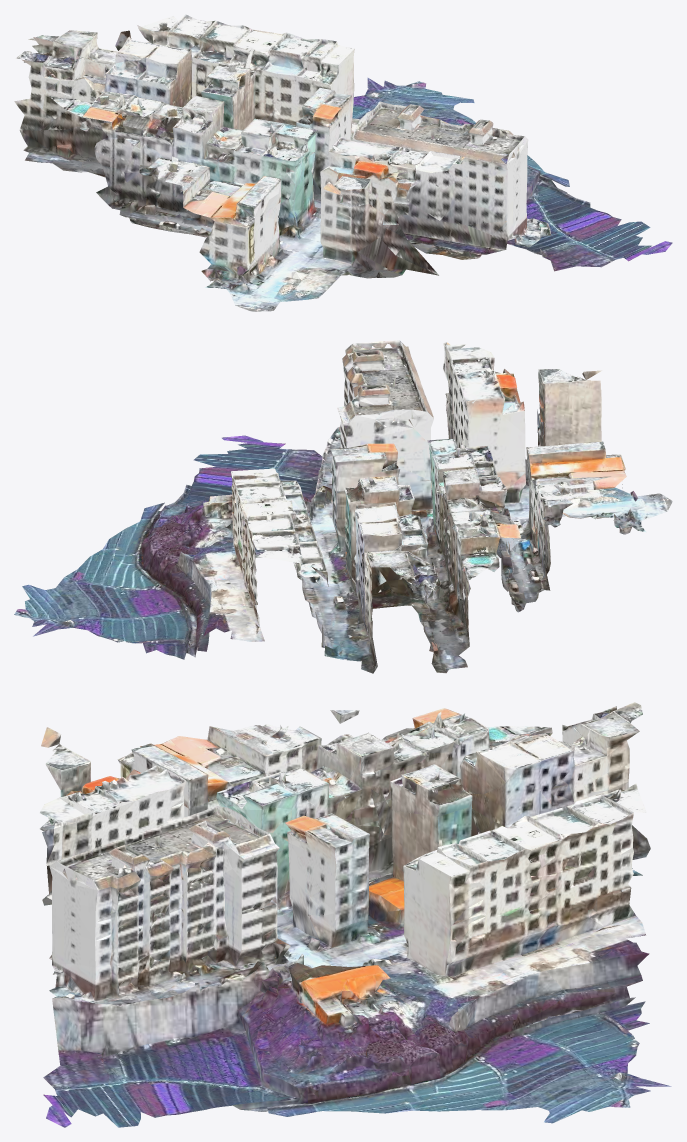
The model's file is Tile_+011_+018_L18_00000.glb.
The picture shows the model from 3 angles, top to bottom: view 1: azimuth 30°, elevation 25°; view 2: azimuth 150°, elevation 25°; view 3: azimuth 270°, elevation 25°; orthographic projection. The views are drawn at different scales.
Parts seen in each view (by area): view 1: rtc; view 2: rtc; view 3: rtc.
Part boxes in pixels (x1,y1,x2,y2): rtc: [14, 14, 672, 311]; rtc: [14, 340, 672, 673]; rtc: [39, 702, 671, 1127].
Size of the model in its own units: 113 by 35.92 by 117.
1 material, 1 textured.
